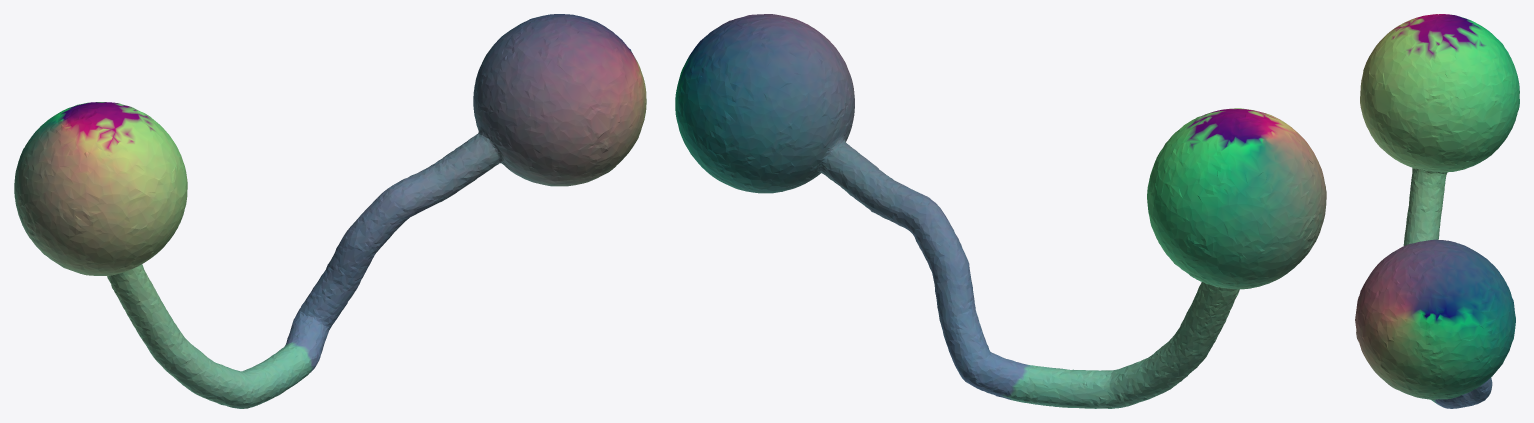
The model's file is twoballs-15.off.obj.
3 views of the same model, side by side, from view 1: azimuth 30°, elevation 25°; view 2: azimuth 150°, elevation 25°; view 3: azimuth 270°, elevation 25° (orthographic). The views are drawn at different scales.
Bounding box in the file's own units: 1.75 × 0.8879 × 0.4455.
